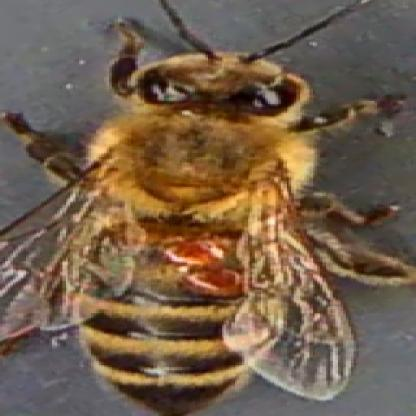bee: (66, 46, 296, 415)
vaoora: (164, 240, 218, 266), (181, 272, 243, 294)
